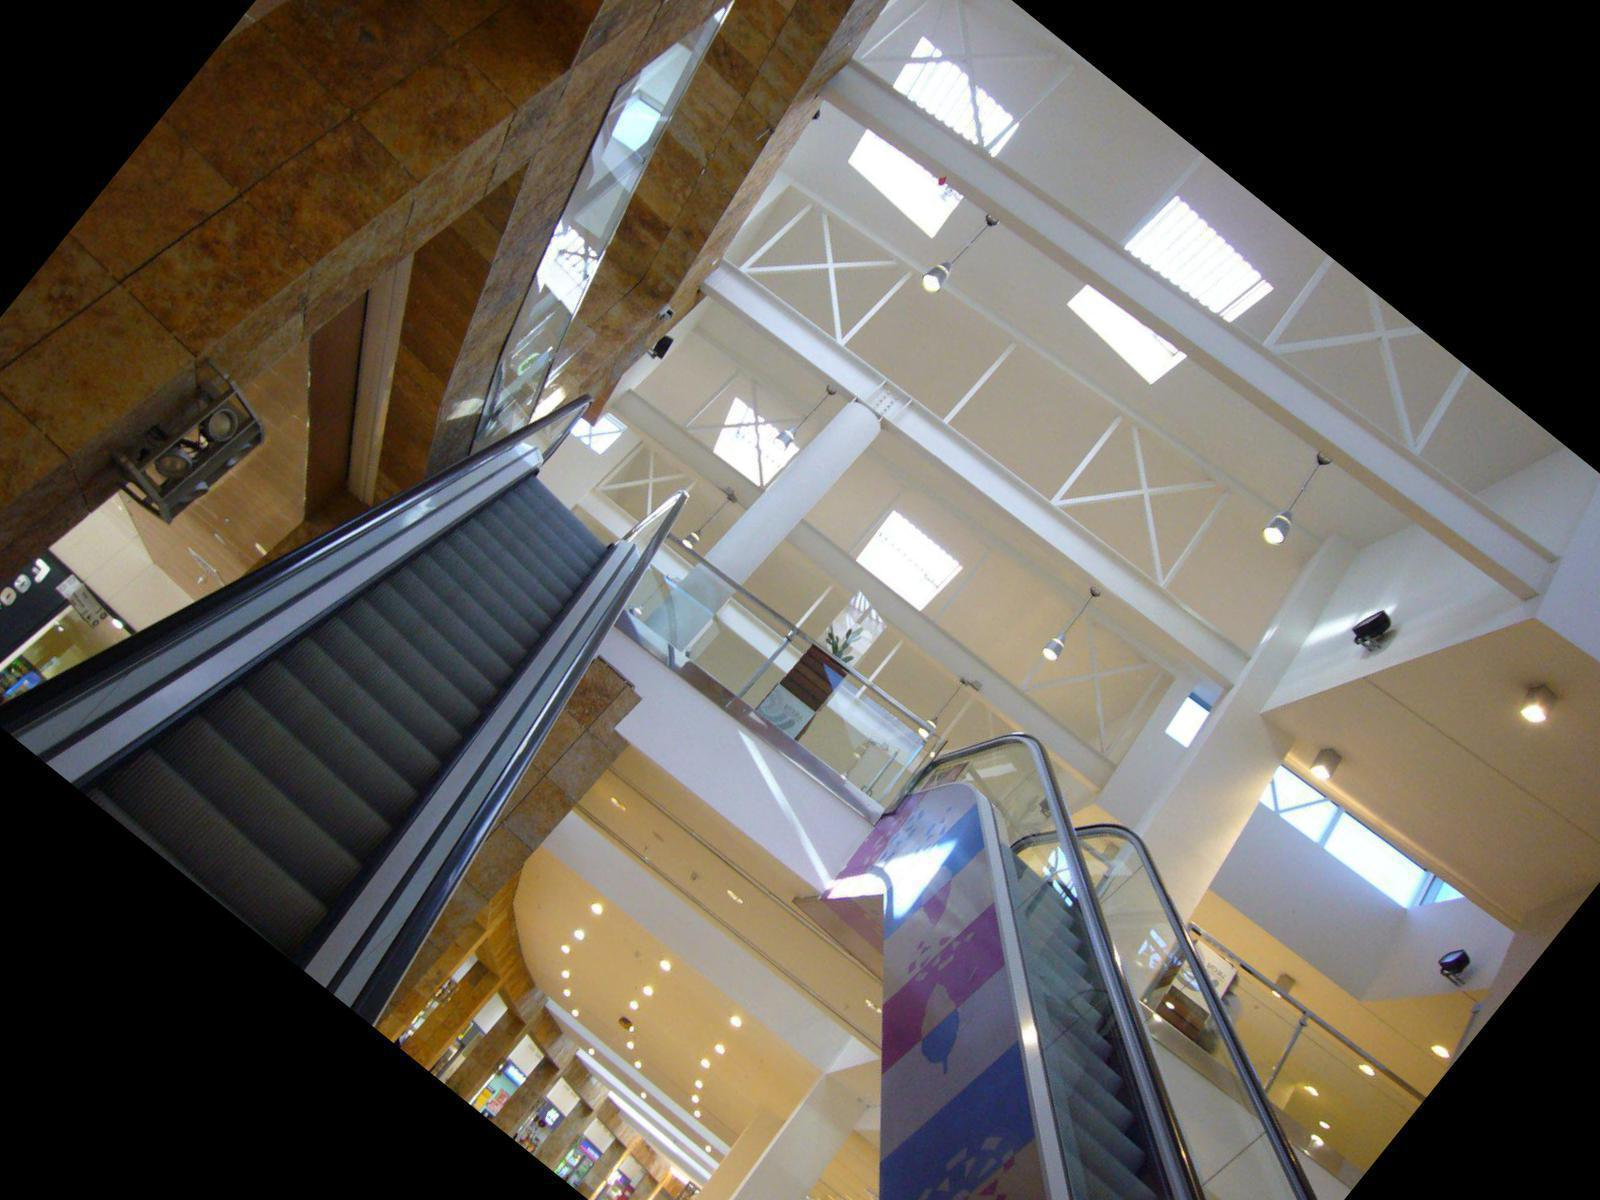Escaleras: (0, 239, 729, 1000), (590, 737, 1414, 1200)
